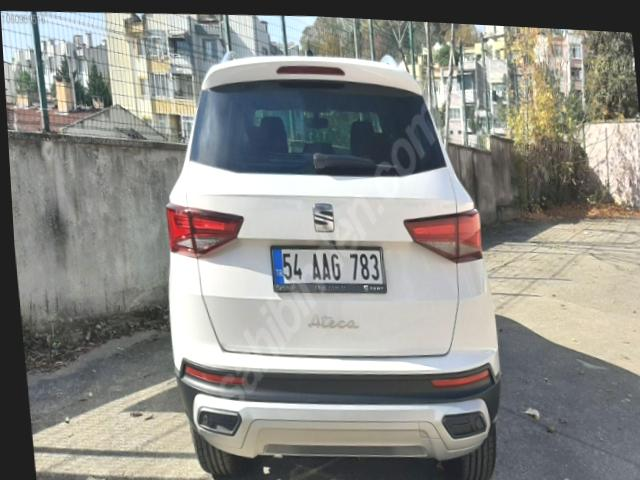plaka: (270, 246, 386, 293)
